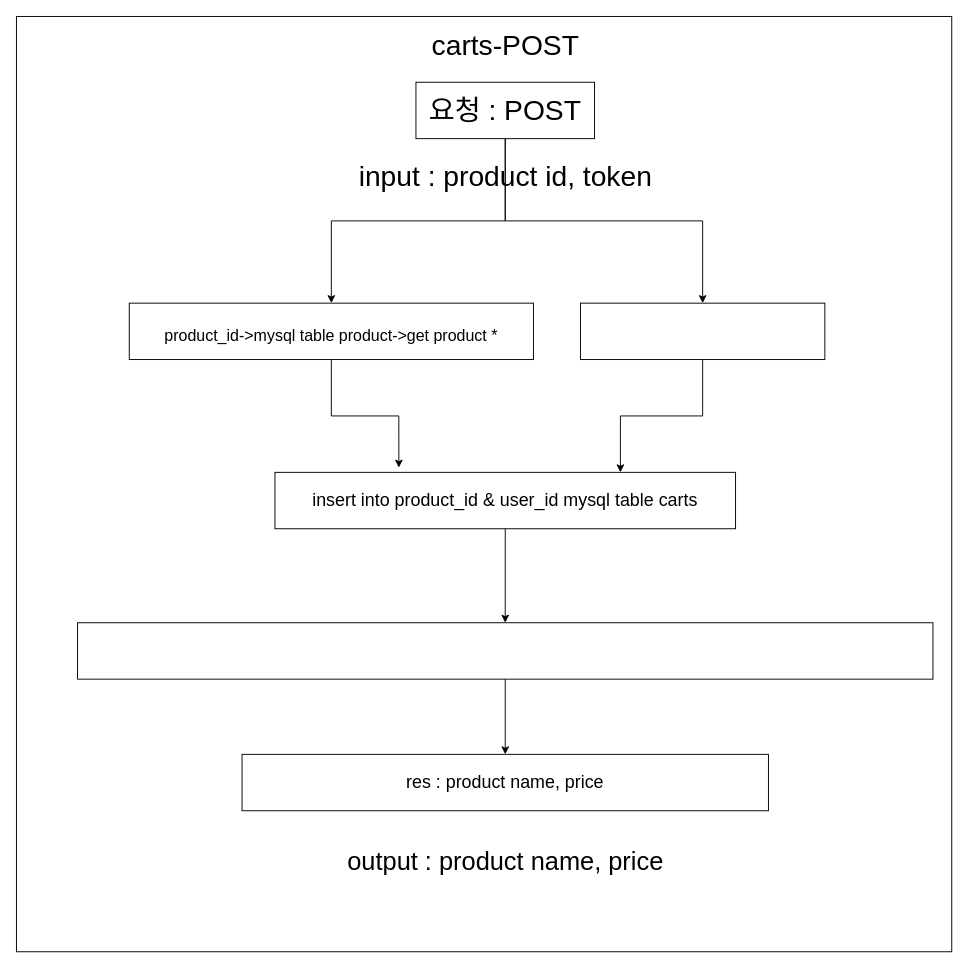
This 968x968 diagram has some shape labels left out. Each missing label, with the centre of its shape:
select price, name from product join carts on product_id = product.id: pixel 505 650
token->const {} = user_info: pixel 702 331
